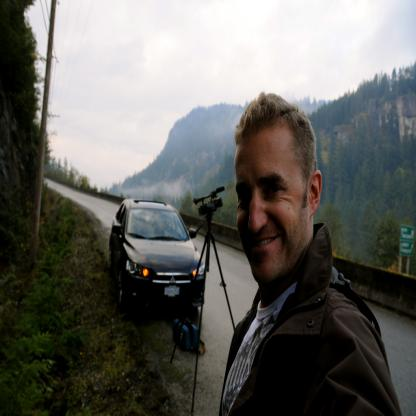Car: (108, 196, 212, 331)
